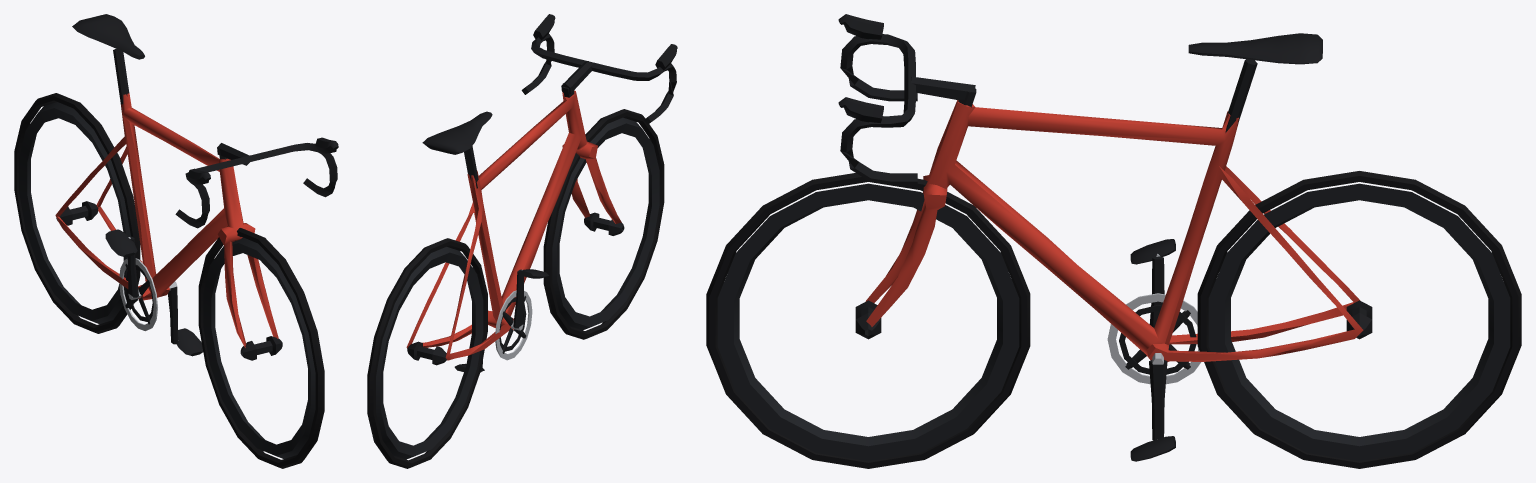
Rendered from bike_lod1.glb.
3 renders of one model, left to right at view 1: azimuth 30°, elevation 25°; view 2: azimuth 150°, elevation 25°; view 3: azimuth 270°, elevation 25°, orthographic. The views are drawn at different scales.
Parts seen in each view (by area): view 1: frame, wheel_front, wheel_rear, crankset, pedal_R, pedal_L; view 2: frame, wheel_rear, wheel_front, crankset; view 3: frame, wheel_rear, wheel_front, crankset.
Part boxes in pixels (bbox=[...]): frame: bbox=[55, 14, 338, 347]; wheel_front: bbox=[198, 228, 324, 468]; wheel_rear: bbox=[14, 93, 140, 333]; crankset: bbox=[119, 236, 178, 344]; pedal_R: bbox=[105, 229, 137, 257]; pedal_L: bbox=[177, 328, 203, 356]; frame: bbox=[406, 14, 677, 360]; wheel_rear: bbox=[367, 238, 487, 468]; wheel_front: bbox=[543, 109, 664, 339]; crankset: bbox=[480, 269, 532, 372]; frame: bbox=[838, 14, 1363, 362]; wheel_rear: bbox=[1197, 171, 1521, 468]; wheel_front: bbox=[706, 173, 1030, 468]; crankset: bbox=[1107, 256, 1201, 440].
Bounding box in the file's own units: 0.436 × 0.9585 × 1.66.
